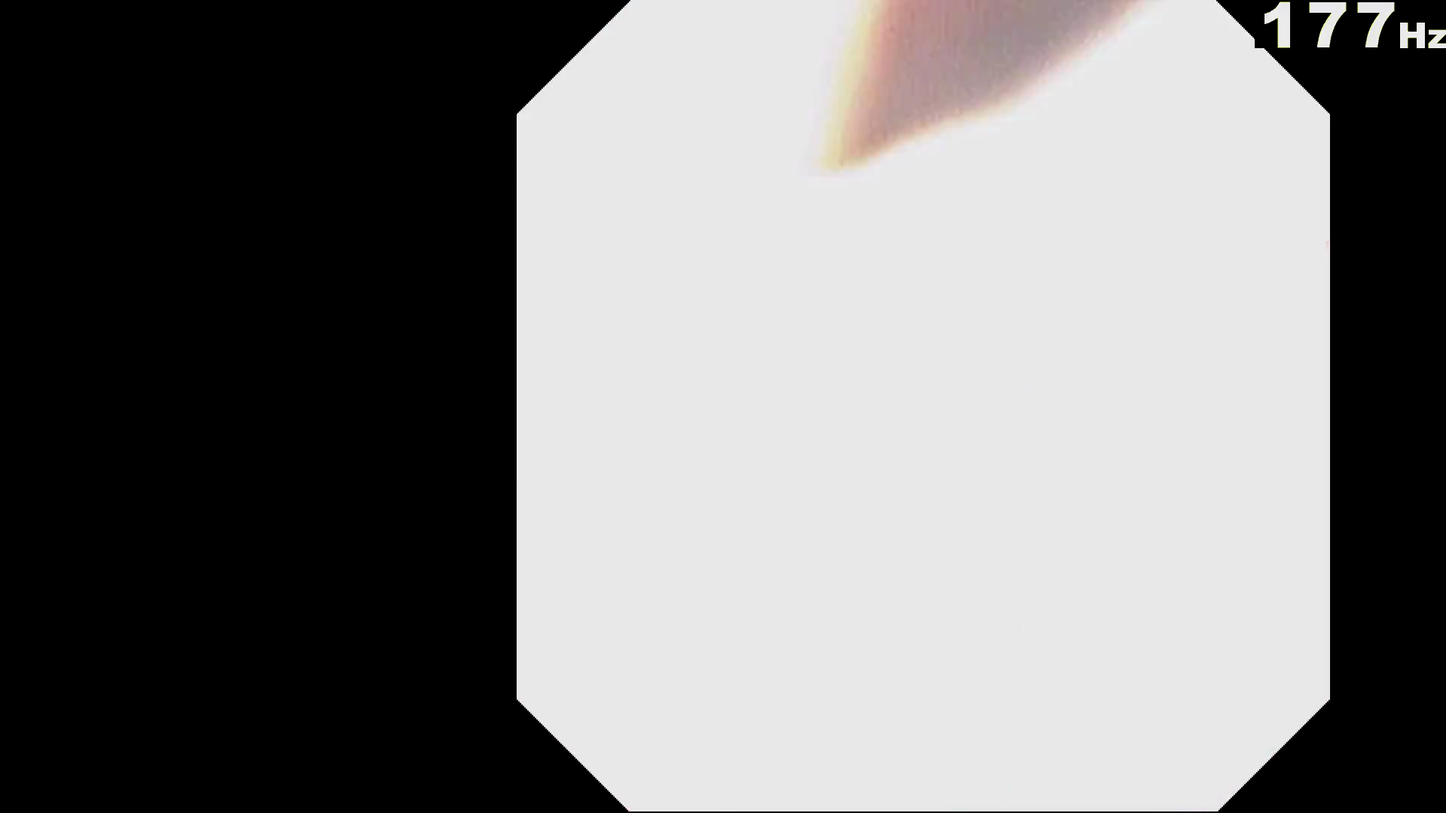epiglottis: (744, 243, 1312, 520)
trachea: (986, 187, 1133, 342)
